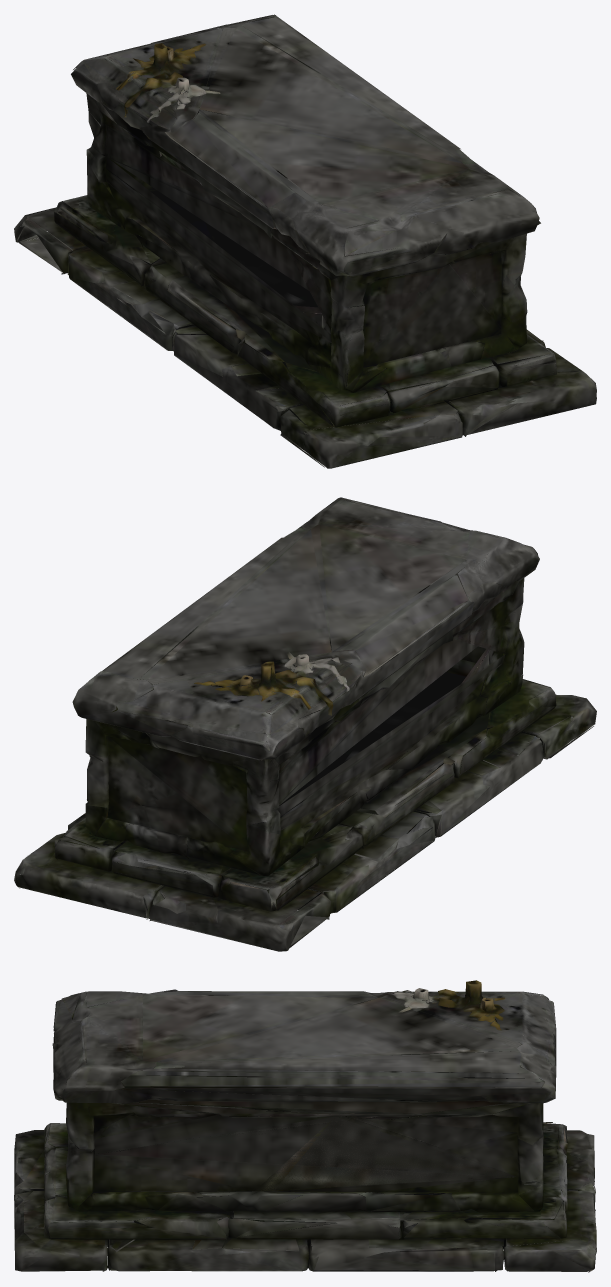
File: sarcophagus.glb
3 renders of one model, top to bottom at view 1: azimuth 30°, elevation 25°; view 2: azimuth 150°, elevation 25°; view 3: azimuth 270°, elevation 25°, orthographic. The views are drawn at different scales.
Parts seen in each view (by area): view 1: sarcophagus_p2; view 2: sarcophagus_p2; view 3: sarcophagus_p2.
Boxes of the visible parts, bbox=[...] form: sarcophagus_p2: bbox=[14, 14, 596, 468]; sarcophagus_p2: bbox=[14, 497, 596, 951]; sarcophagus_p2: bbox=[14, 980, 596, 1272].
Size of the model in its own units: 0.9429 by 0.7383 by 1.89.
Materials: 2 (2 with a texture image).
